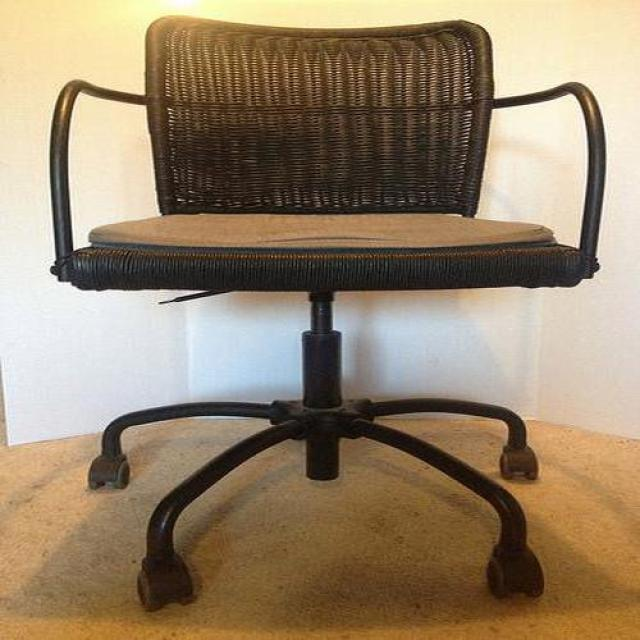swivelchair: (49, 15, 607, 613)
